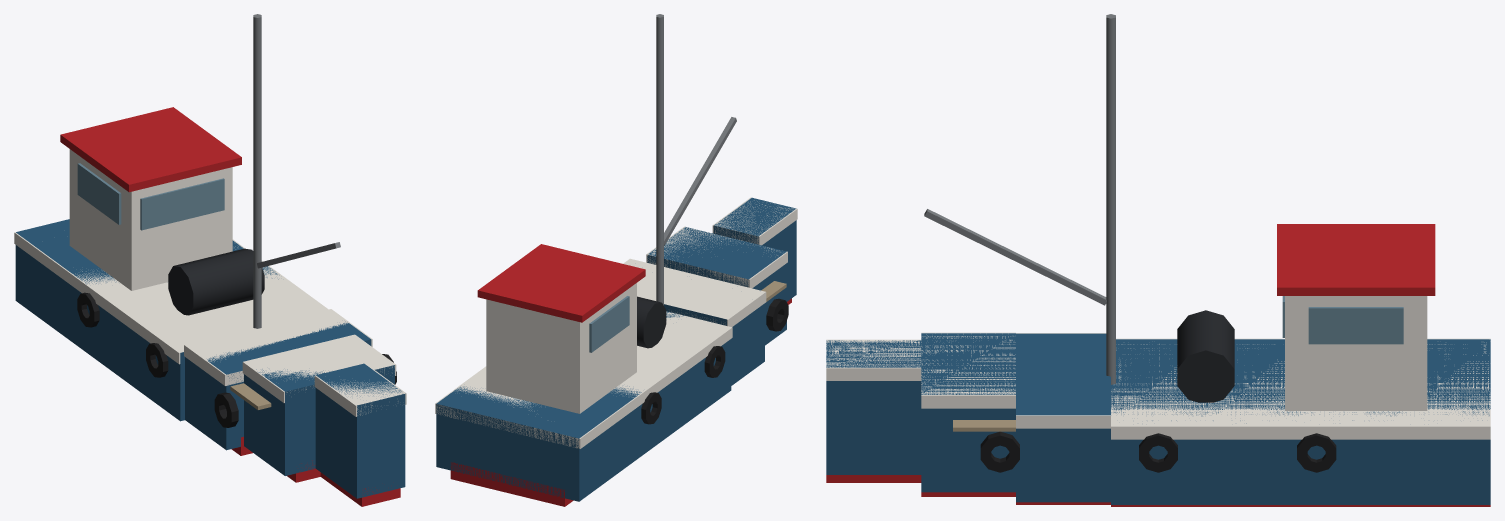
File: hb_fishing_boat.glb
3 renders of one model, left to right at view 1: azimuth 30°, elevation 25°; view 2: azimuth 150°, elevation 25°; view 3: azimuth 270°, elevation 25°, orthographic. The views are drawn at different scales.
Visible parts, largest first — view 1: hb_fishing_boat; view 2: hb_fishing_boat; view 3: hb_fishing_boat.
Part boxes in pixels (box(x1,y1,x2,y2)): hb_fishing_boat: box(14, 14, 406, 506); hb_fishing_boat: box(435, 14, 797, 506); hb_fishing_boat: box(826, 14, 1490, 506).
Size of the model in its own units: 2.78 by 6.36 by 8.4.
